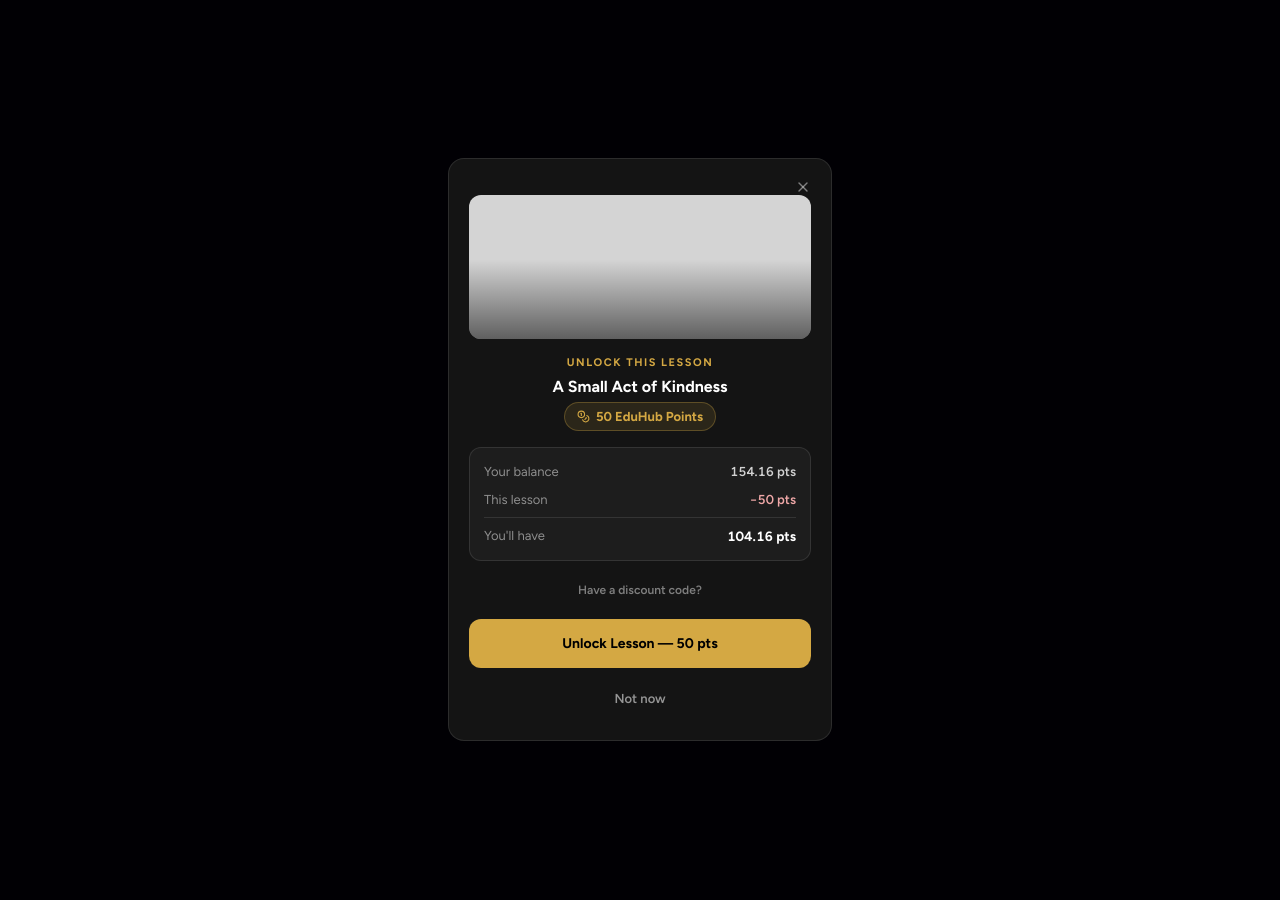
reconcile outcome: pending-review message with NO retry (matches the backend state machine)
Click the button with test id "video-purchase-confirm-button". click: (640, 644)
box: 469,620 -> 811,669
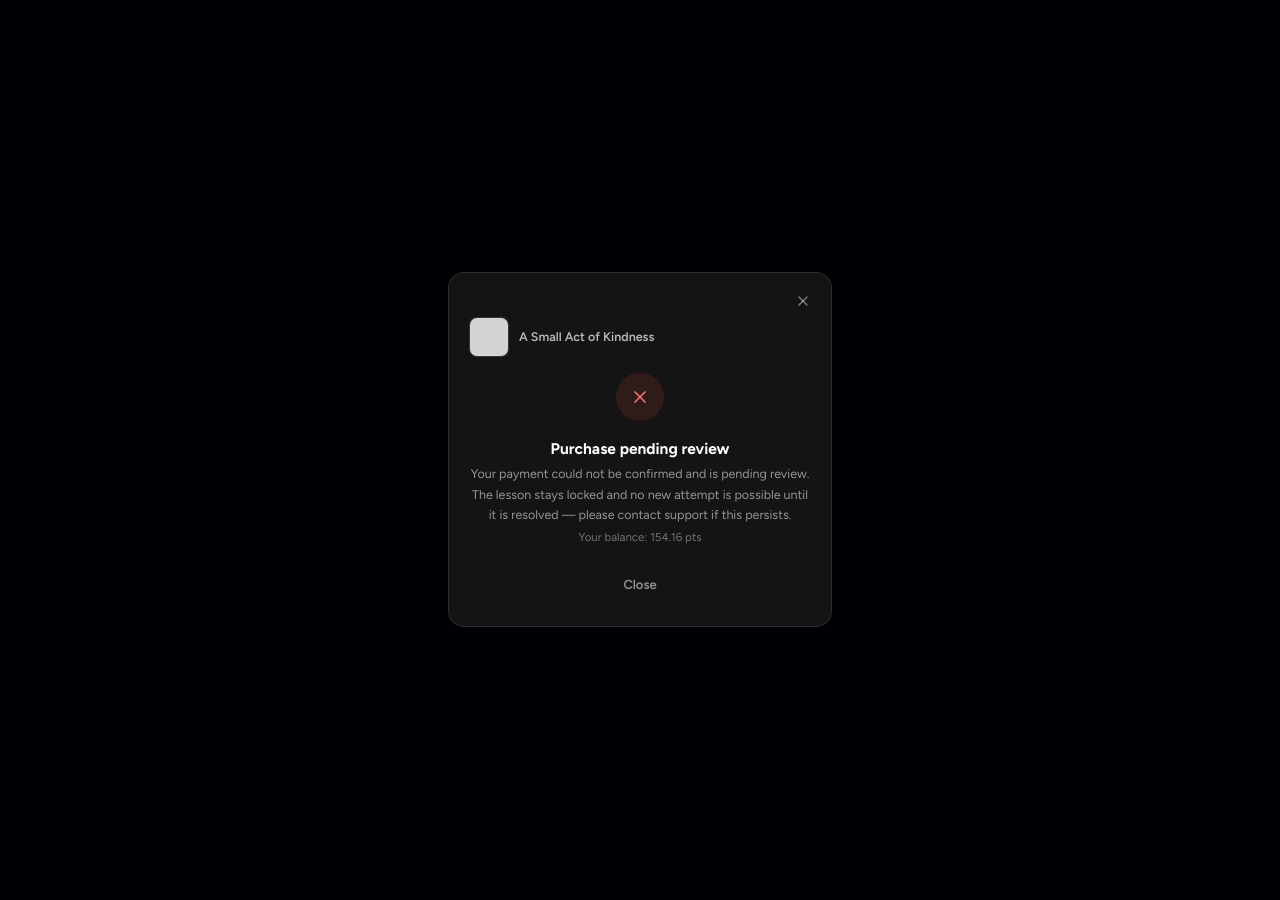
Result: the element with test id "video-purchase-error" is shown at 469,309 -> 811,607
Result: the text "pending review. The lesson stays locked" is shown at 471,466 -> 809,522
